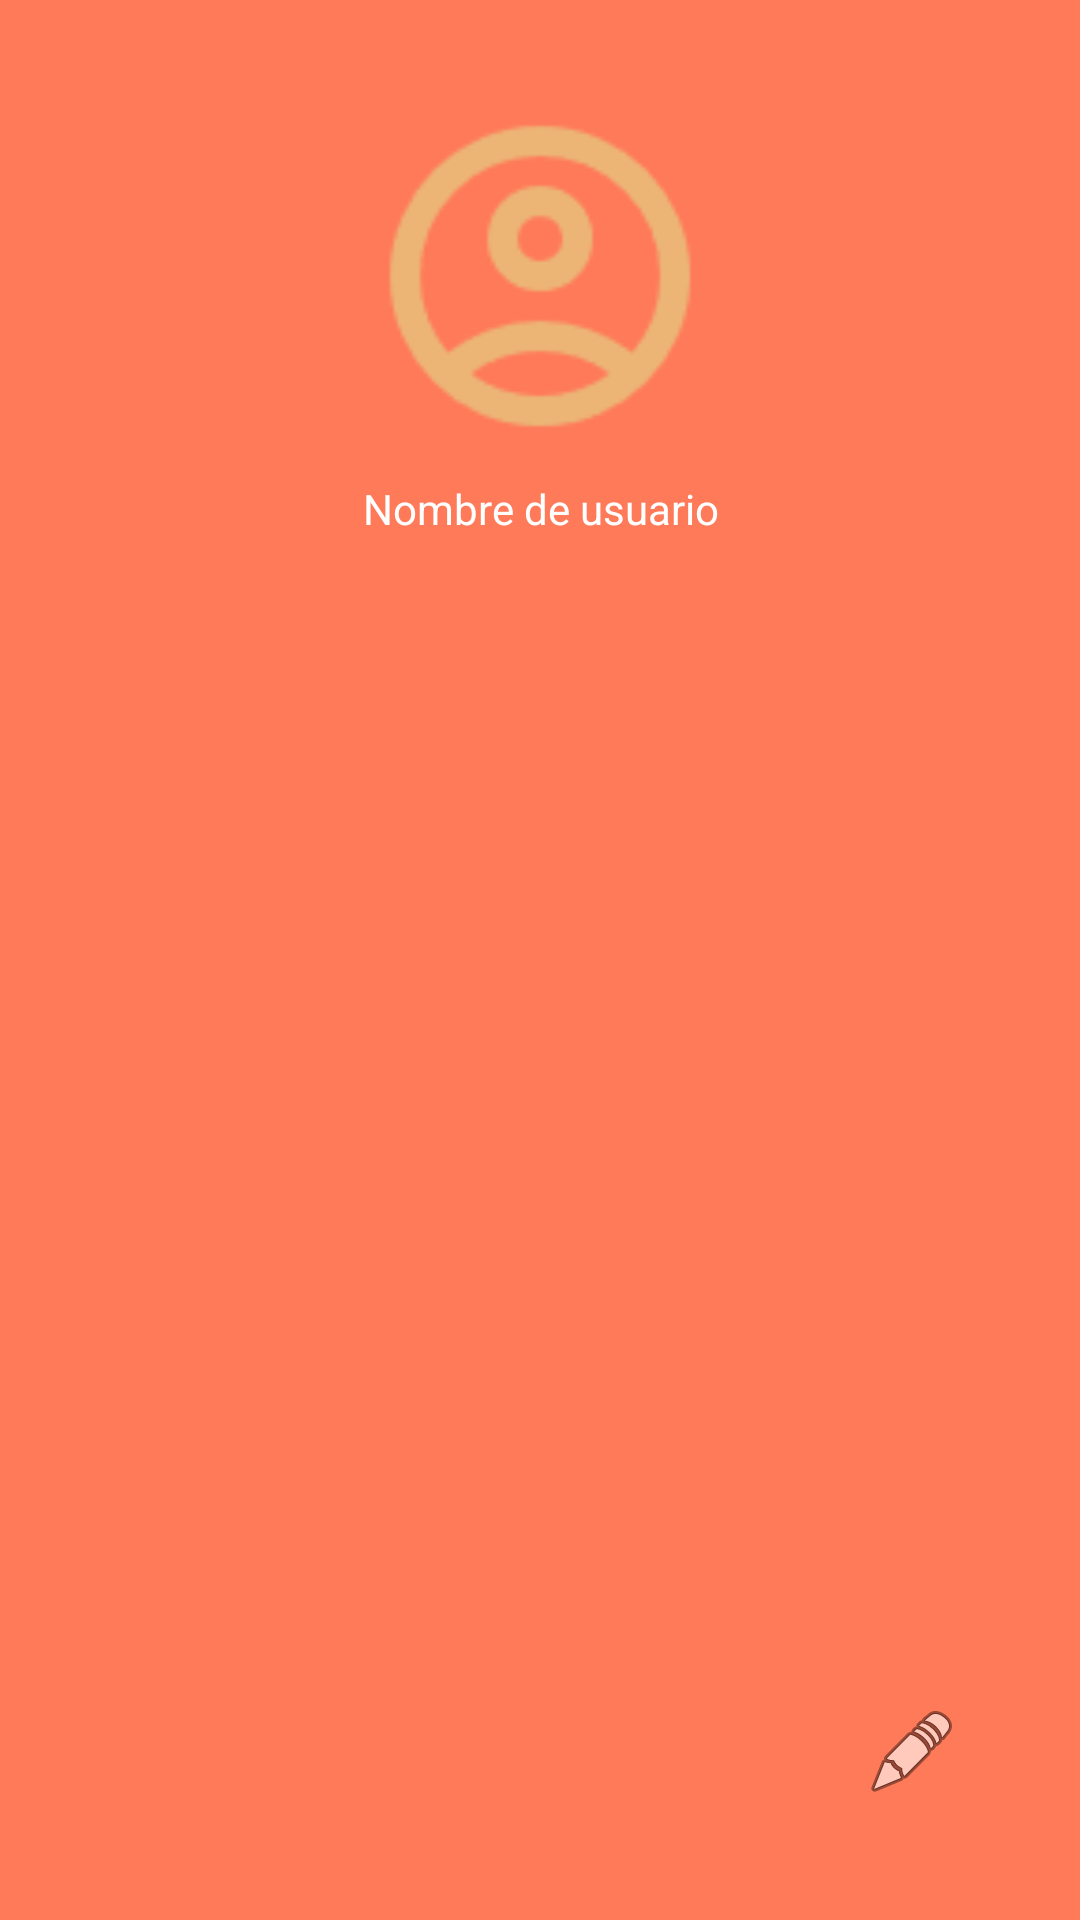

Where icons sit on this 1080*1920 app screen, as (x1, y1, x2, y2):
edit: (871, 1711, 952, 1792)
